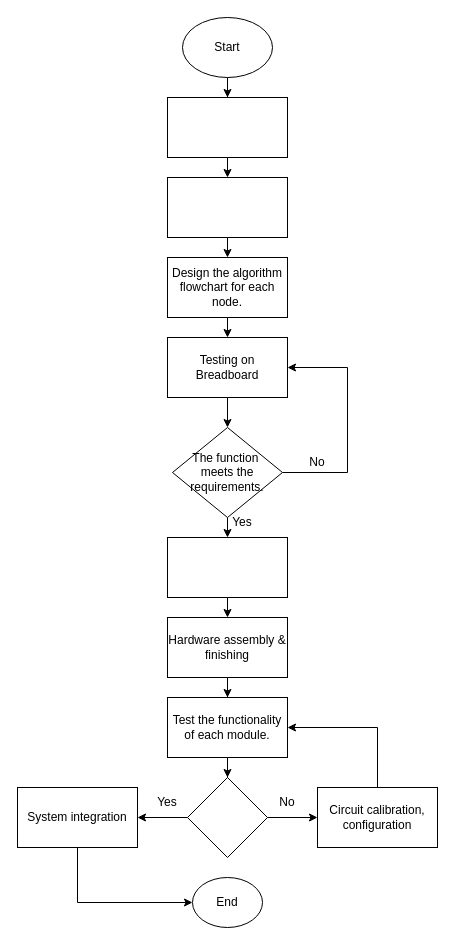
This 455x945 diagram has some shape labels left out. The shapes that lost their labels are listed below. From the top down, each one's box as (x1, y1, x2, y2) in pixels, then its label:
(166, 96, 288, 158): Brainstorming & defining the problem
(166, 176, 288, 238): Node Function Analysis & Allocation
(166, 536, 288, 598): Schematic & PCB design
(186, 776, 268, 858): Stable operation
